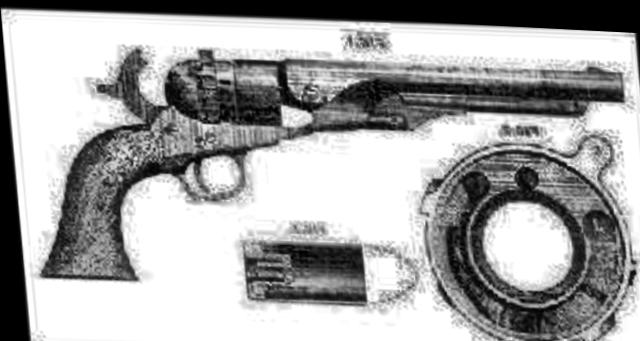pistol: (14, 25, 638, 297)
